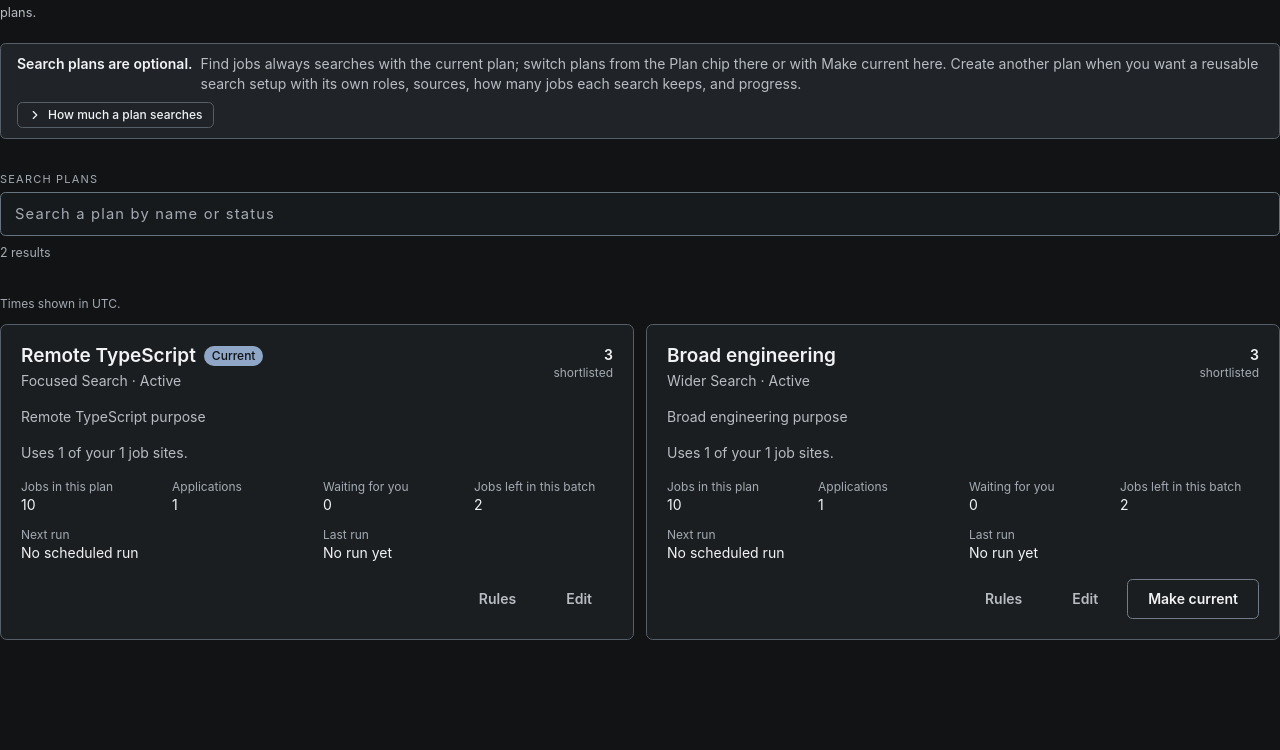
Test: CampaignsScreen › archives the current plan and reports success through the boolean save path
The image size is (1280, 750).
Click the 1st button "Edit": [579, 599] box [545,579,613,619]
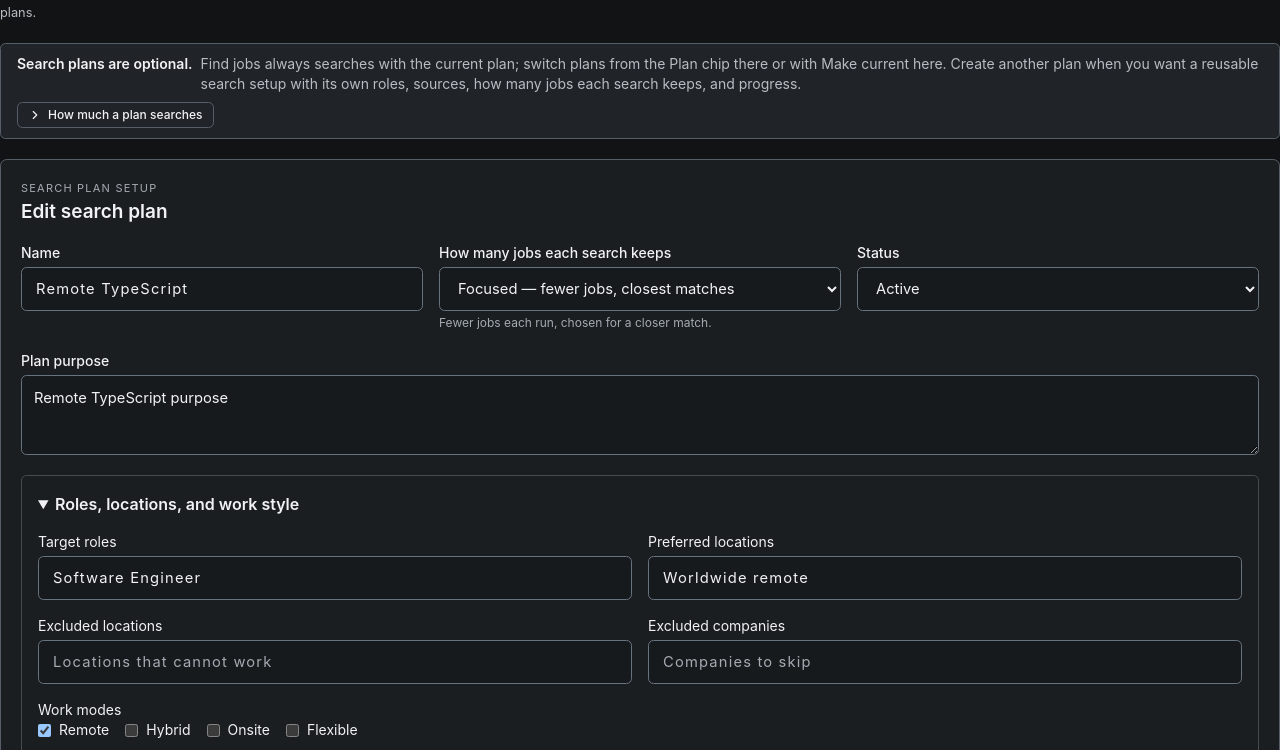
Select "Archived" in the dropdown labelled "Status": [1058, 289] box [857,267,1259,311]
(page scrolled)
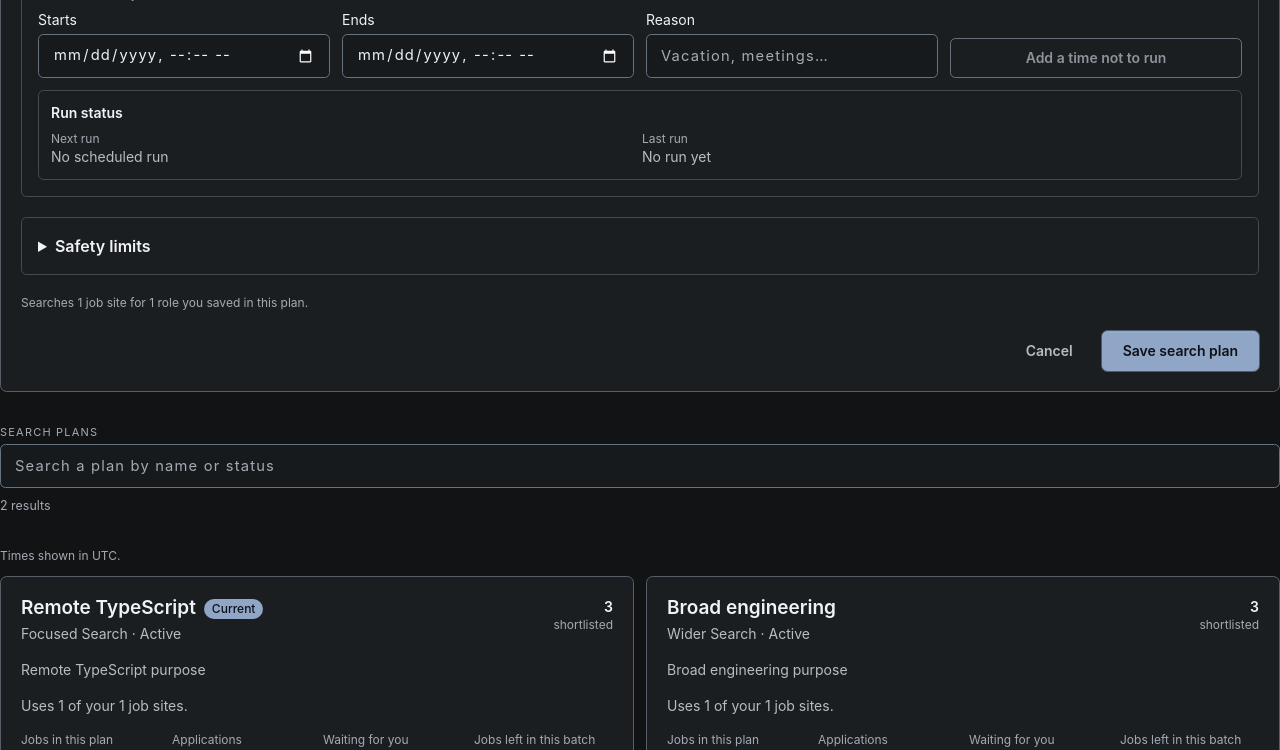
Expected: the button "Save search plan" is enabled
Click the button "Save search plan": [1180, 351] box [1102,331,1259,371]
(page scrolled)
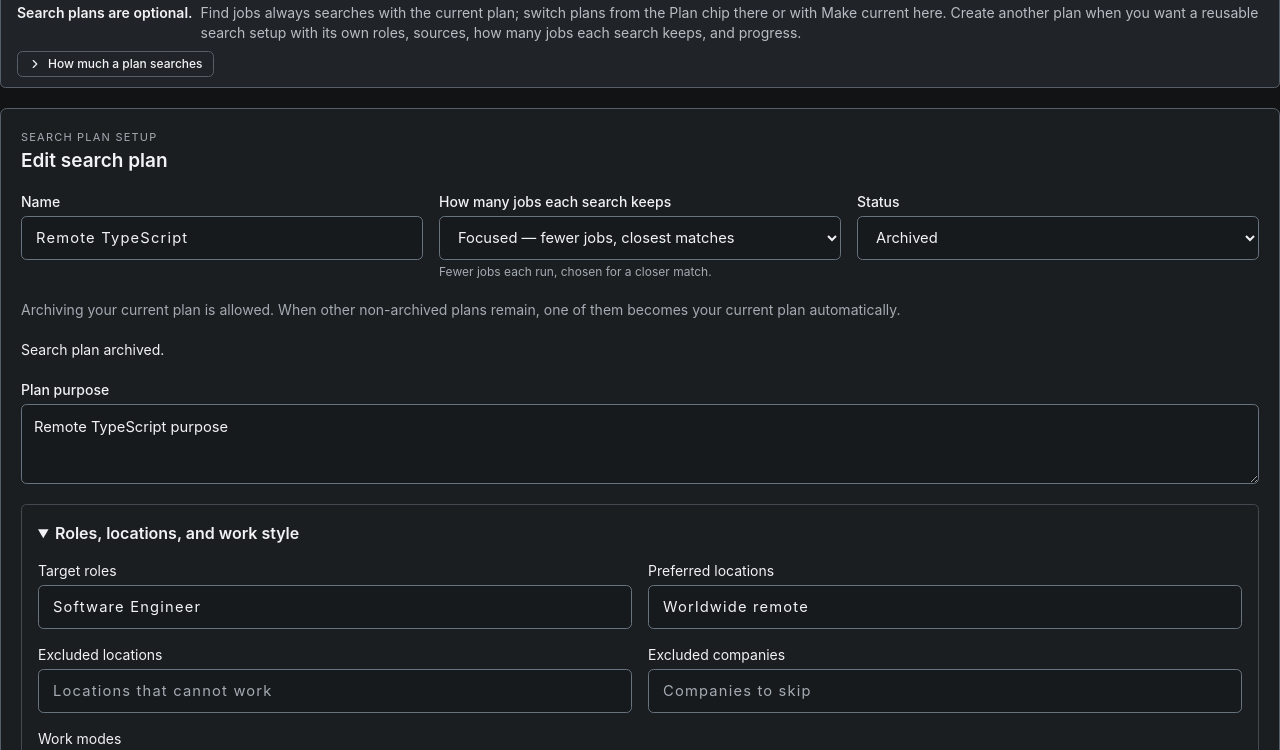
Expected: the text "Search plan archived." is shown, [21,341,164,358]
